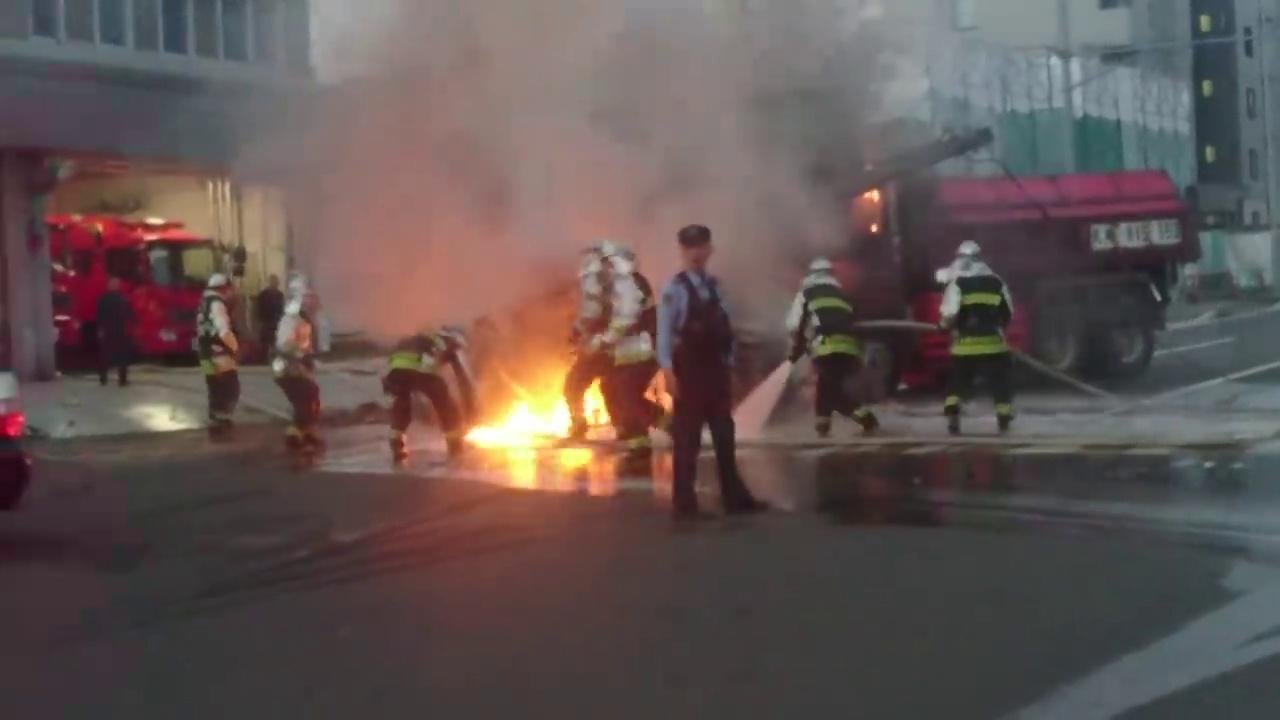Fire: (473, 371, 605, 466), (859, 187, 880, 203)
